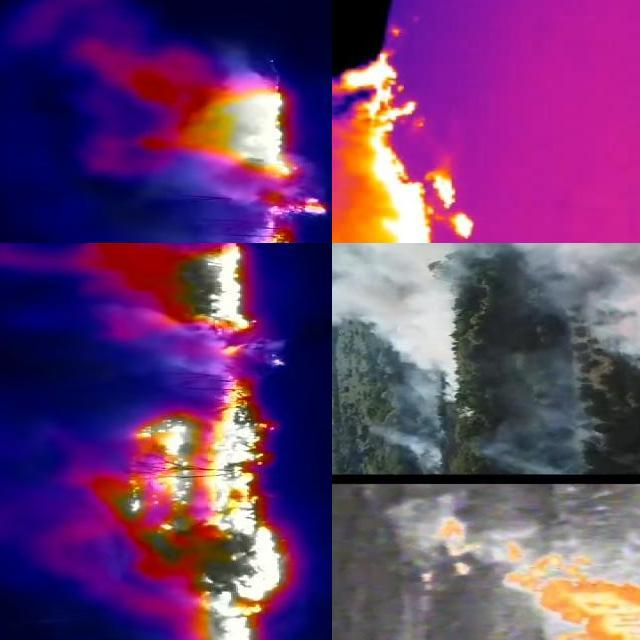fire: (83, 379, 291, 640), (333, 52, 476, 244), (136, 67, 300, 185), (109, 244, 270, 363), (430, 519, 536, 597), (539, 559, 640, 640)
